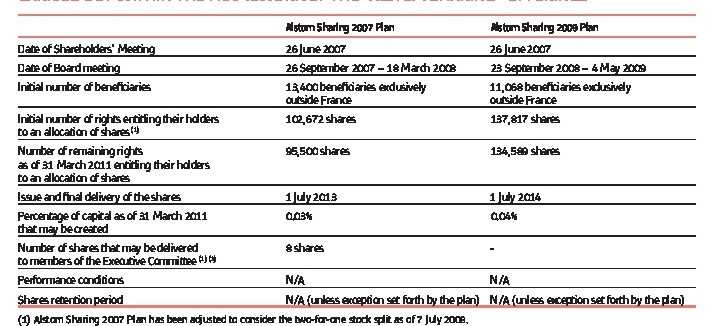table: (0, 0, 709, 326)
